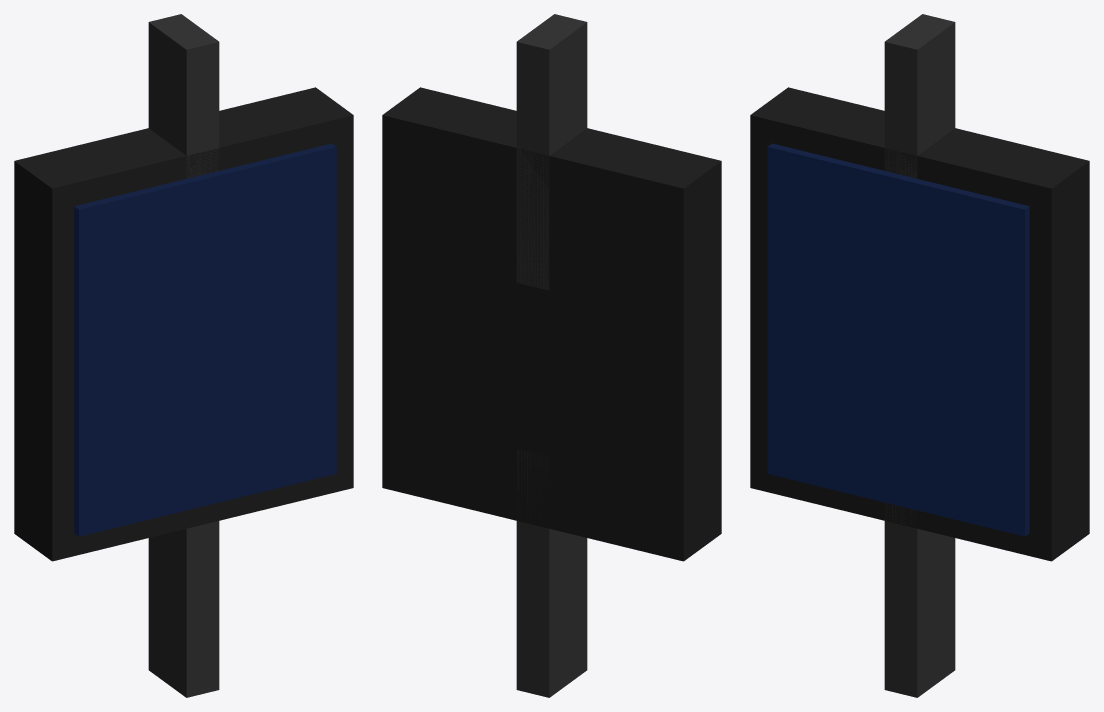
File: smartwatch.glb
3 views of the same model, side by side, from view 1: azimuth 30°, elevation 25°; view 2: azimuth 150°, elevation 25°; view 3: azimuth 330°, elevation 25° (orthographic).
Size of the model in its own units: 0.55 by 1.13 by 0.135.
